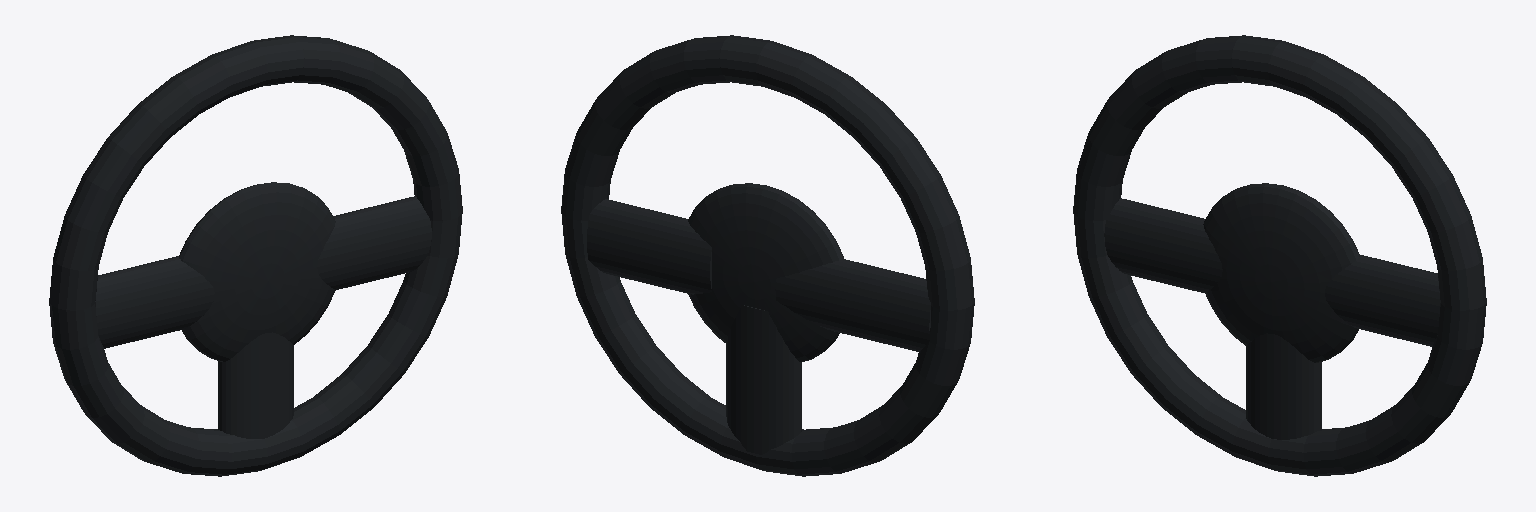
Rendered from tinker.obj.
3 views of the same model, side by side, from view 1: azimuth 30°, elevation 25°; view 2: azimuth 150°, elevation 25°; view 3: azimuth 330°, elevation 25° (orthographic).
Parts seen in each view (by area): view 1: obj_0; view 2: obj_0; view 3: obj_0.
Part boxes in pixels (x1,y1,x2,y2): obj_0: (49, 35, 462, 476); obj_0: (561, 35, 974, 476); obj_0: (1073, 35, 1486, 476).
Bounding box in the file's own units: 106 × 106 × 10.6.